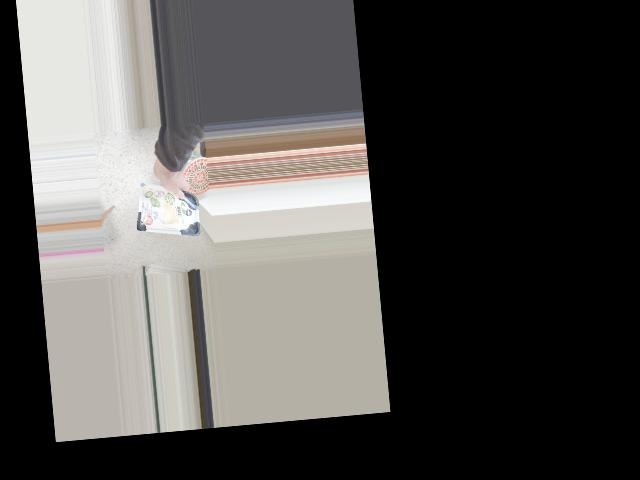cheese: (138, 170, 189, 224)
